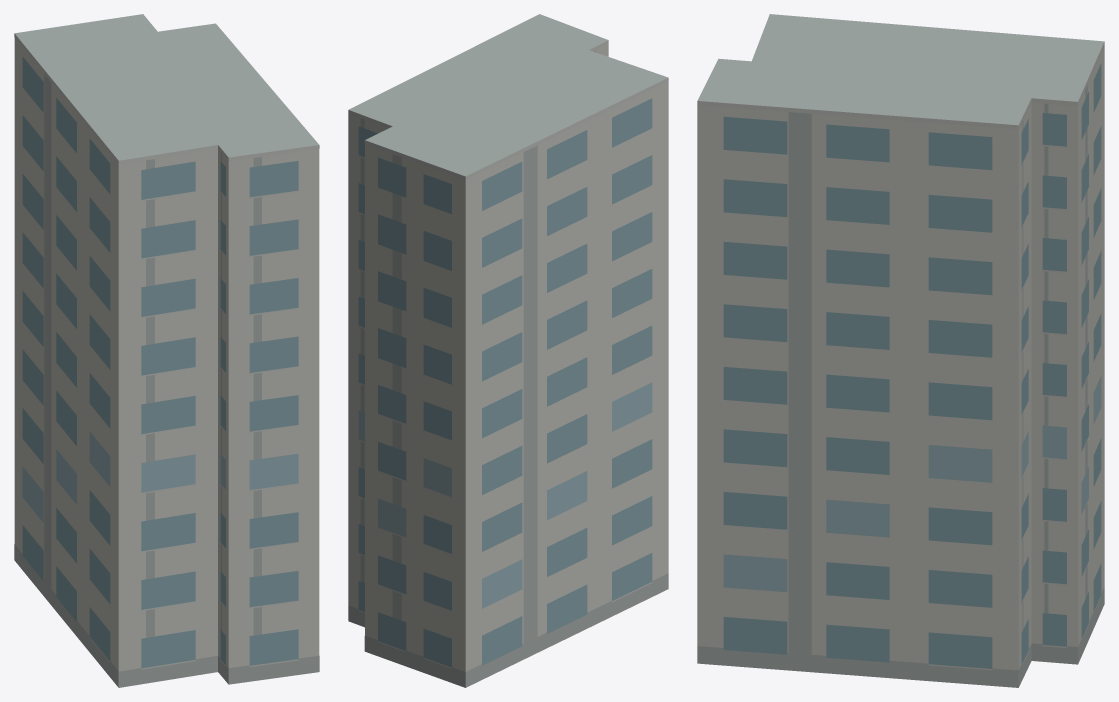
File: residential-1f417638-ff6a-4804-acb3-6134109b5443.glb
The picture shows the model from 3 angles, left to right: view 1: azimuth 30°, elevation 25°; view 2: azimuth 150°, elevation 25°; view 3: azimuth 270°, elevation 25°; orthographic projection. The views are drawn at different scales.
Visible parts, largest first — view 1: residential-1f417638-ff6a-4804-acb3-6134109b5443.tmp; view 2: residential-1f417638-ff6a-4804-acb3-6134109b5443.tmp; view 3: residential-1f417638-ff6a-4804-acb3-6134109b5443.tmp.
Boxes of the visible parts, bbox=[...] form: residential-1f417638-ff6a-4804-acb3-6134109b5443.tmp: bbox=[14, 14, 319, 687]; residential-1f417638-ff6a-4804-acb3-6134109b5443.tmp: bbox=[348, 14, 668, 687]; residential-1f417638-ff6a-4804-acb3-6134109b5443.tmp: bbox=[697, 14, 1104, 687].
Bounding box in the file's own units: 13.58 × 32 × 21.
